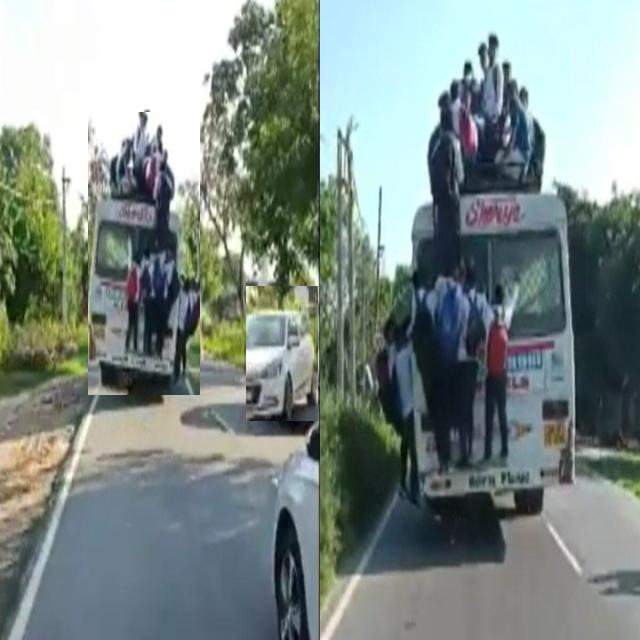bus: (376, 38, 580, 517), (89, 112, 200, 395)
car: (269, 426, 322, 640), (246, 286, 318, 421)
